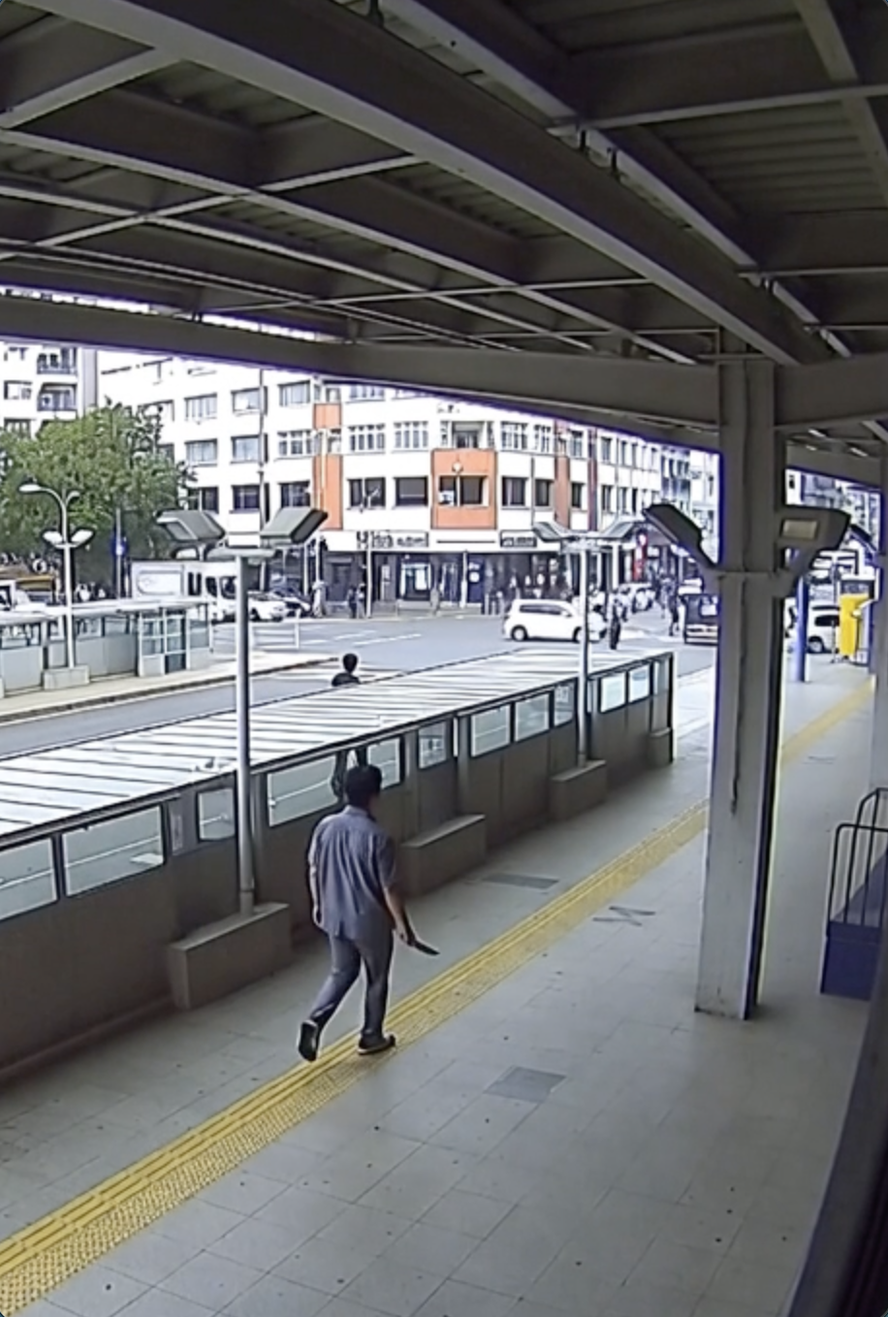Heavy Gun: (285, 753, 420, 1076)
Knife: (384, 921, 447, 958)
